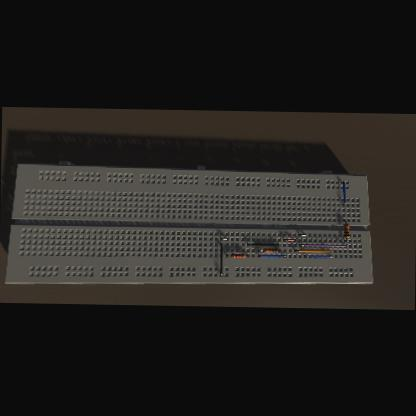breadboard: (4, 160, 374, 290)
resistor: (344, 223, 350, 238), (263, 249, 278, 253), (230, 254, 244, 258)
wire: (298, 244, 346, 247), (219, 243, 223, 275), (341, 182, 346, 205), (294, 249, 332, 252), (247, 244, 280, 247), (303, 255, 331, 257), (257, 255, 285, 257), (342, 220, 346, 223), (283, 239, 294, 240), (343, 238, 346, 241), (298, 234, 305, 235), (221, 238, 226, 239), (257, 249, 262, 250), (225, 255, 229, 256), (278, 250, 280, 251), (245, 255, 247, 256)
